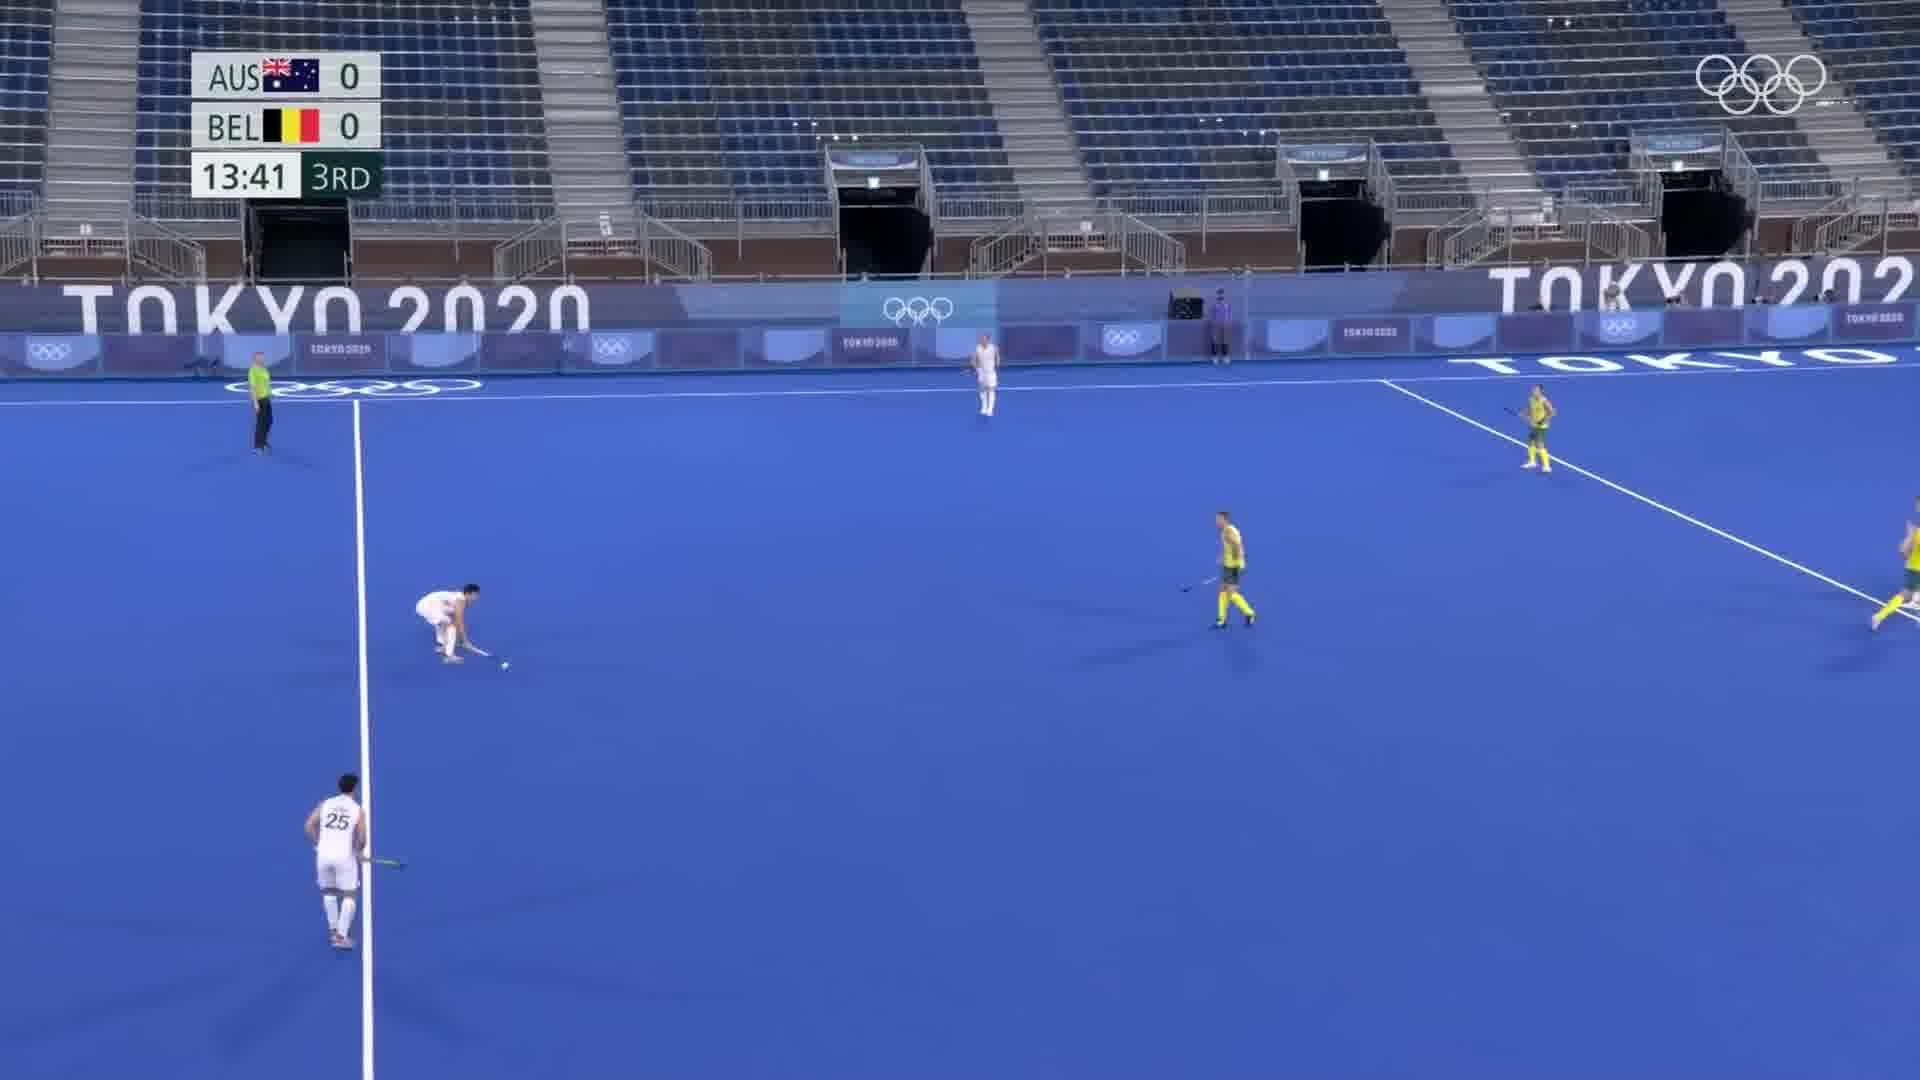ball: (497, 657, 512, 675)
